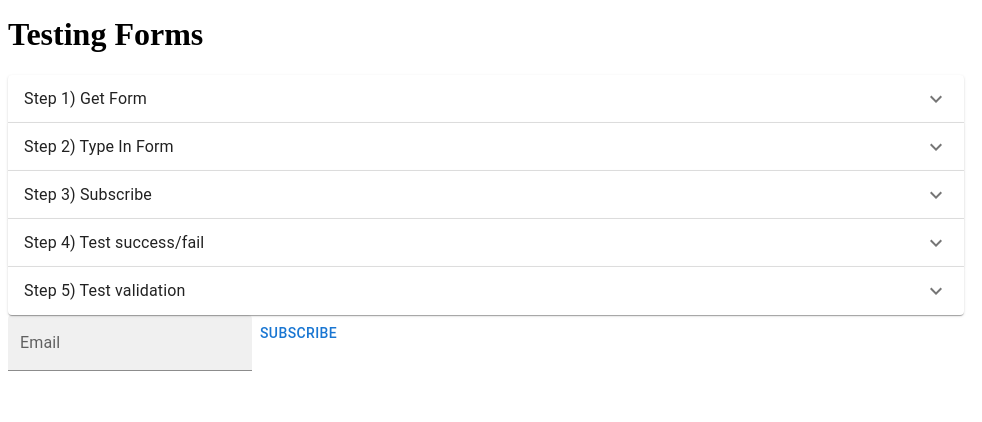
Form tests › Test subscribe form
Check: the heading "Testing Forms" is shown, box [8,16,203,52]
In the field labelled "Email": (130,343) [8,315,252,371], type "test@test.com"
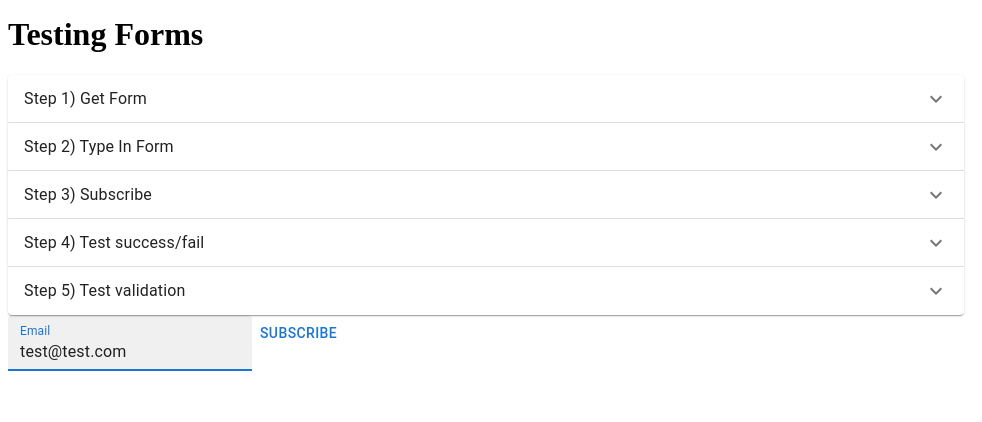
Click the button with test id "subscribe-button": (299,334) [252,315,345,352]
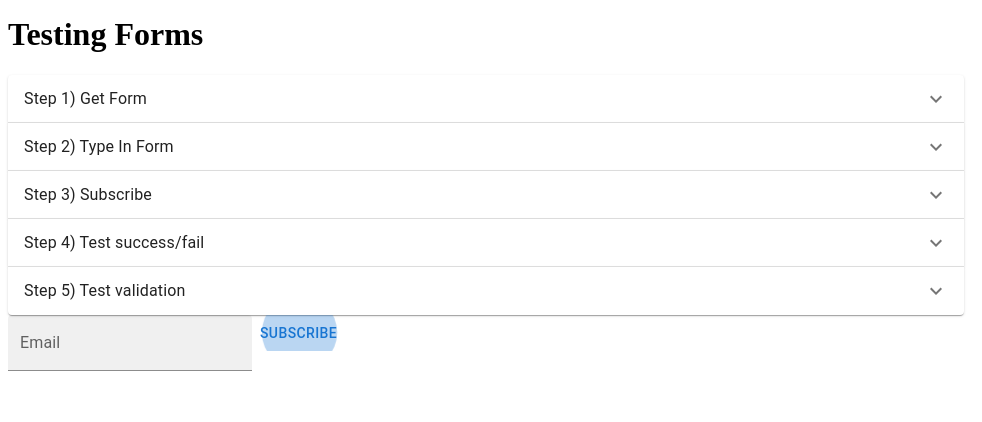
In the field labelled "Email": (130,343) [8,315,252,371], type "test@test.io"
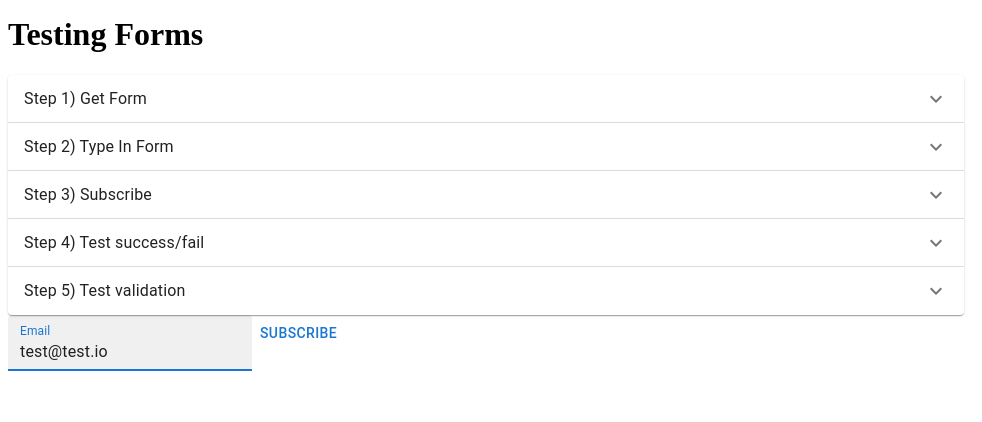
Click the button with test id "subscribe-button": (299,334) [252,315,345,352]
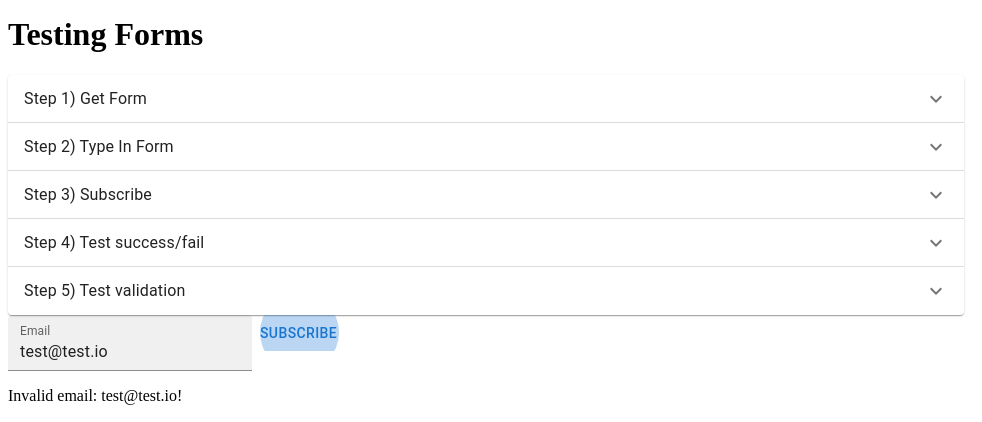
Check: the text "Invalid email: test@test.io!" is shown, box [8,387,182,404]
Clear the field labelled "Email": (130,343) [8,315,252,371]
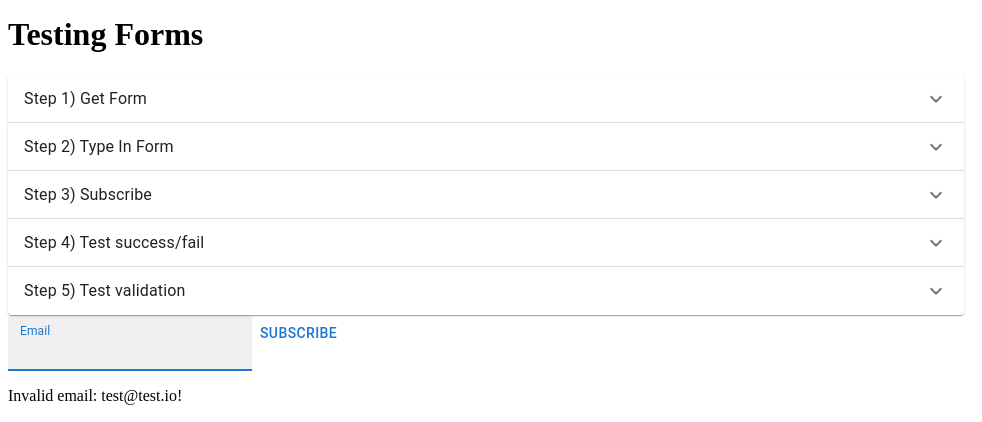
Click the button with test id "subscribe-button": (299,334) [252,315,345,352]
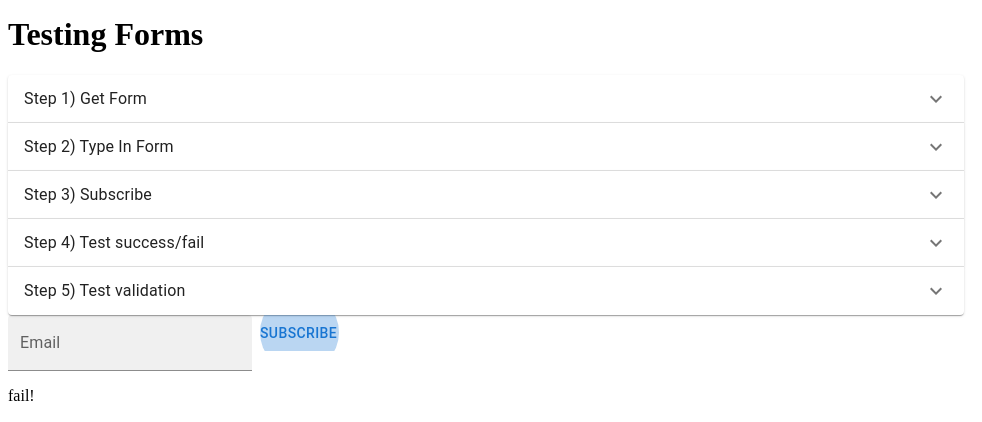
Check: the text "fail!" is shown, box [8,387,35,404]
